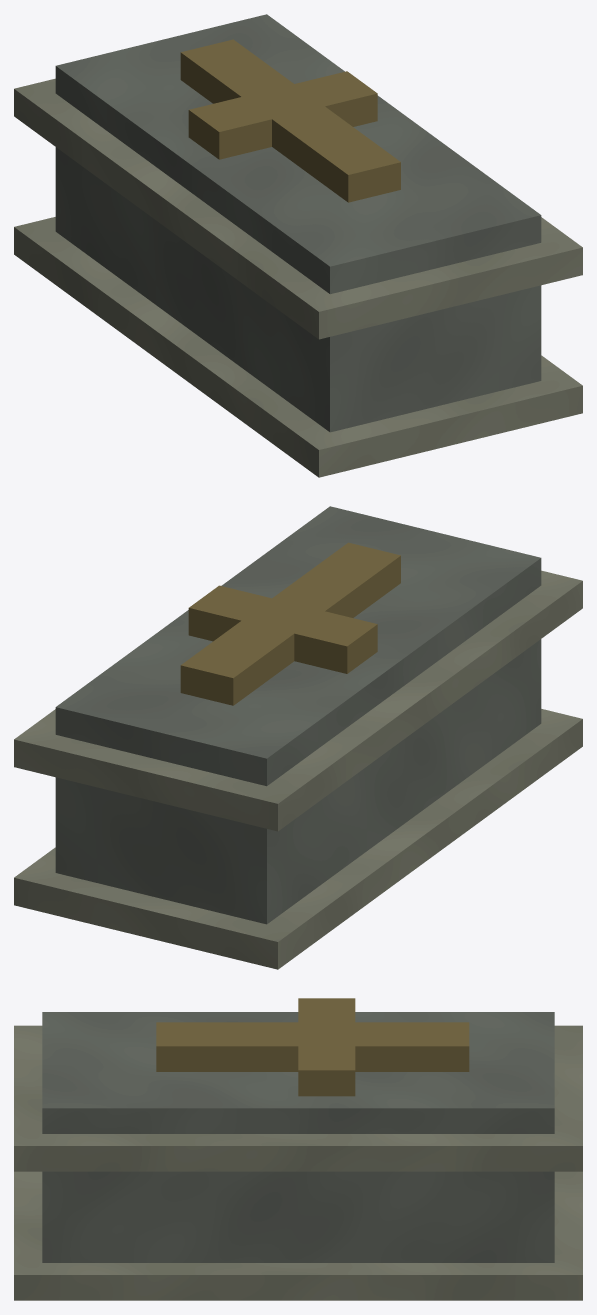
The model's file is SARCOPHAGUS_A.glb.
3 views of the same model, one above another, from view 1: azimuth 30°, elevation 25°; view 2: azimuth 150°, elevation 25°; view 3: azimuth 270°, elevation 25° (orthographic). The views are drawn at different scales.
Visible parts, largest first — view 1: SARCOPHAGUS_A; view 2: SARCOPHAGUS_A; view 3: SARCOPHAGUS_A.
Boxes of the visible parts, box(x1,y1,x2,y2) form: SARCOPHAGUS_A: box(14, 14, 582, 477); SARCOPHAGUS_A: box(14, 506, 582, 969); SARCOPHAGUS_A: box(14, 998, 582, 1300).
Size of the model in its own units: 1.25 by 1 by 2.5.
Materials: 3 (2 with a texture image).
